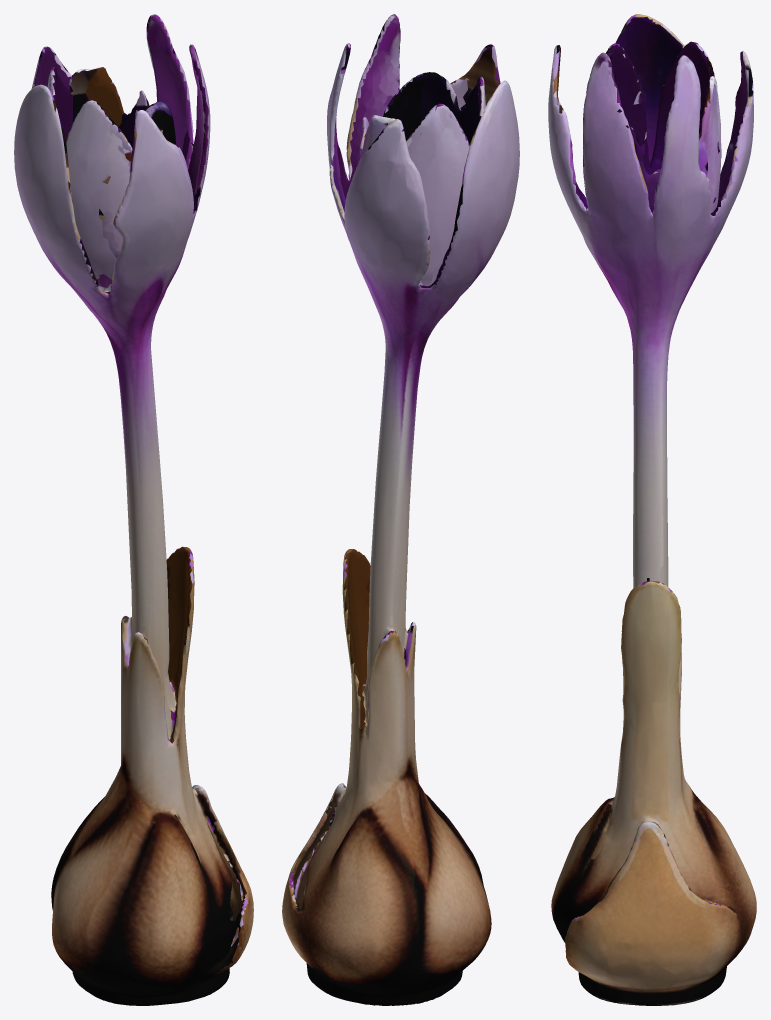
Rendered from colchicum.glb.
3 views of the same model, side by side, from view 1: azimuth 30°, elevation 25°; view 2: azimuth 150°, elevation 25°; view 3: azimuth 270°, elevation 25° (orthographic).
Parts seen in each view (by area): view 1: world; view 2: world; view 3: world.
Boxes of the visible parts, x1,y1,x2,y2 form: world: [14, 14, 253, 1005]; world: [282, 14, 519, 1005]; world: [548, 14, 756, 1005].
Bounding box in the file's own units: 0.4578 × 1.99 × 0.4034.
Materials: 1 (1 with a texture image).
